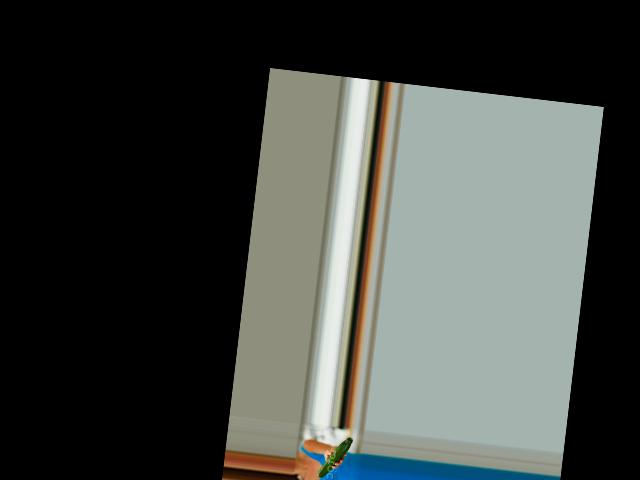cucumber: (317, 434, 353, 480)
